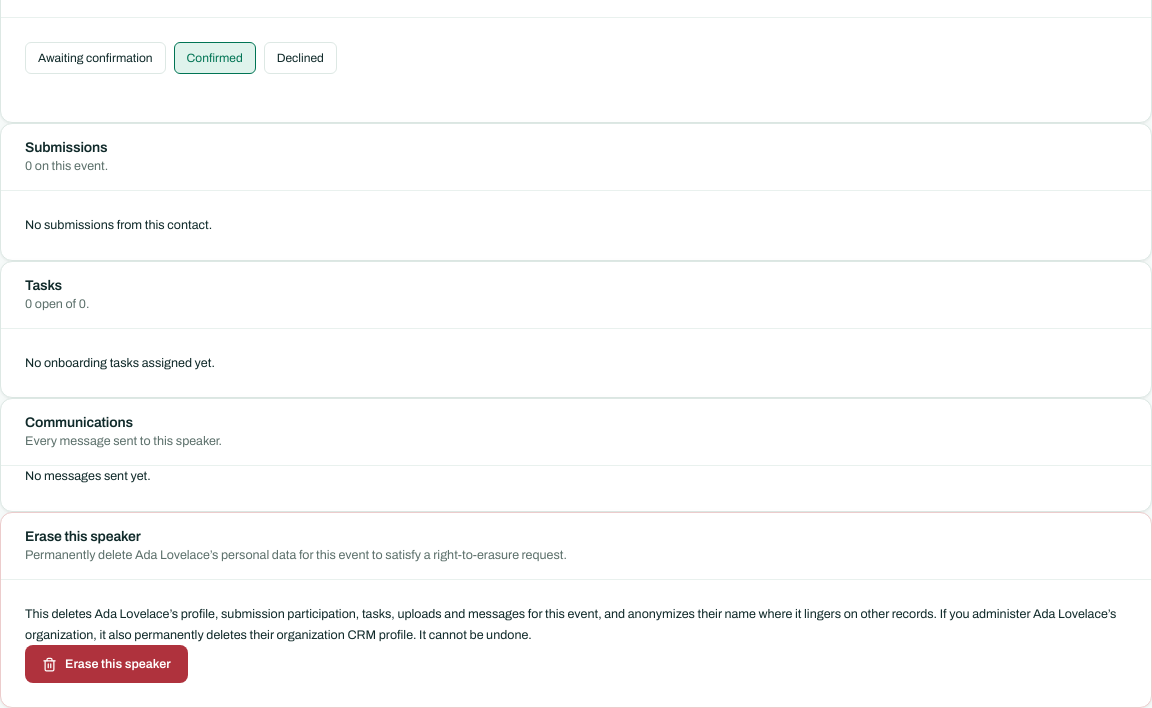
erasing a speaker › names what erasure destroys and requires the speaker's name before it can run
(page scrolled)
Click the button "Erase this speaker" at coordinates (106, 664), box [25,645,188,683]
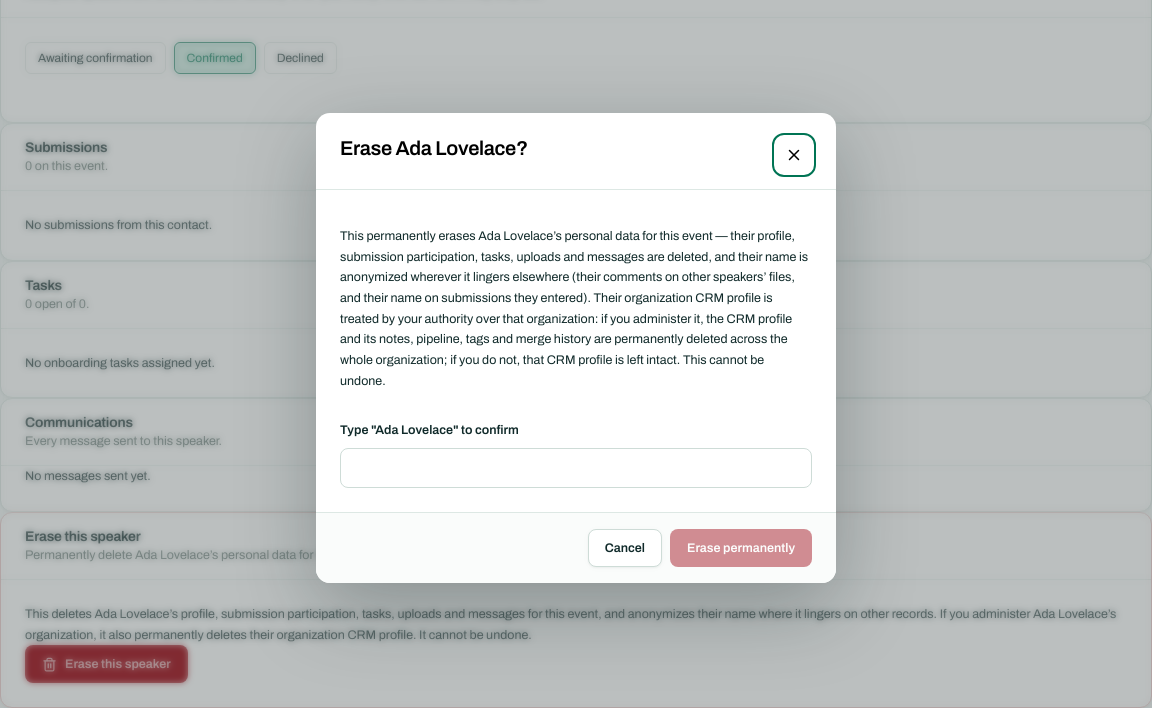
Check: the text "Erase Ada Lovelace?" is shown, box [340,137,528,159]
Check: the text "anonymized" is shown, box [340,229,808,388]
Check: the text "if you administer it, the CRM profile and its notes, pipeline, tags and merge history are permanently deleted" is shown, box [340,229,808,388]
